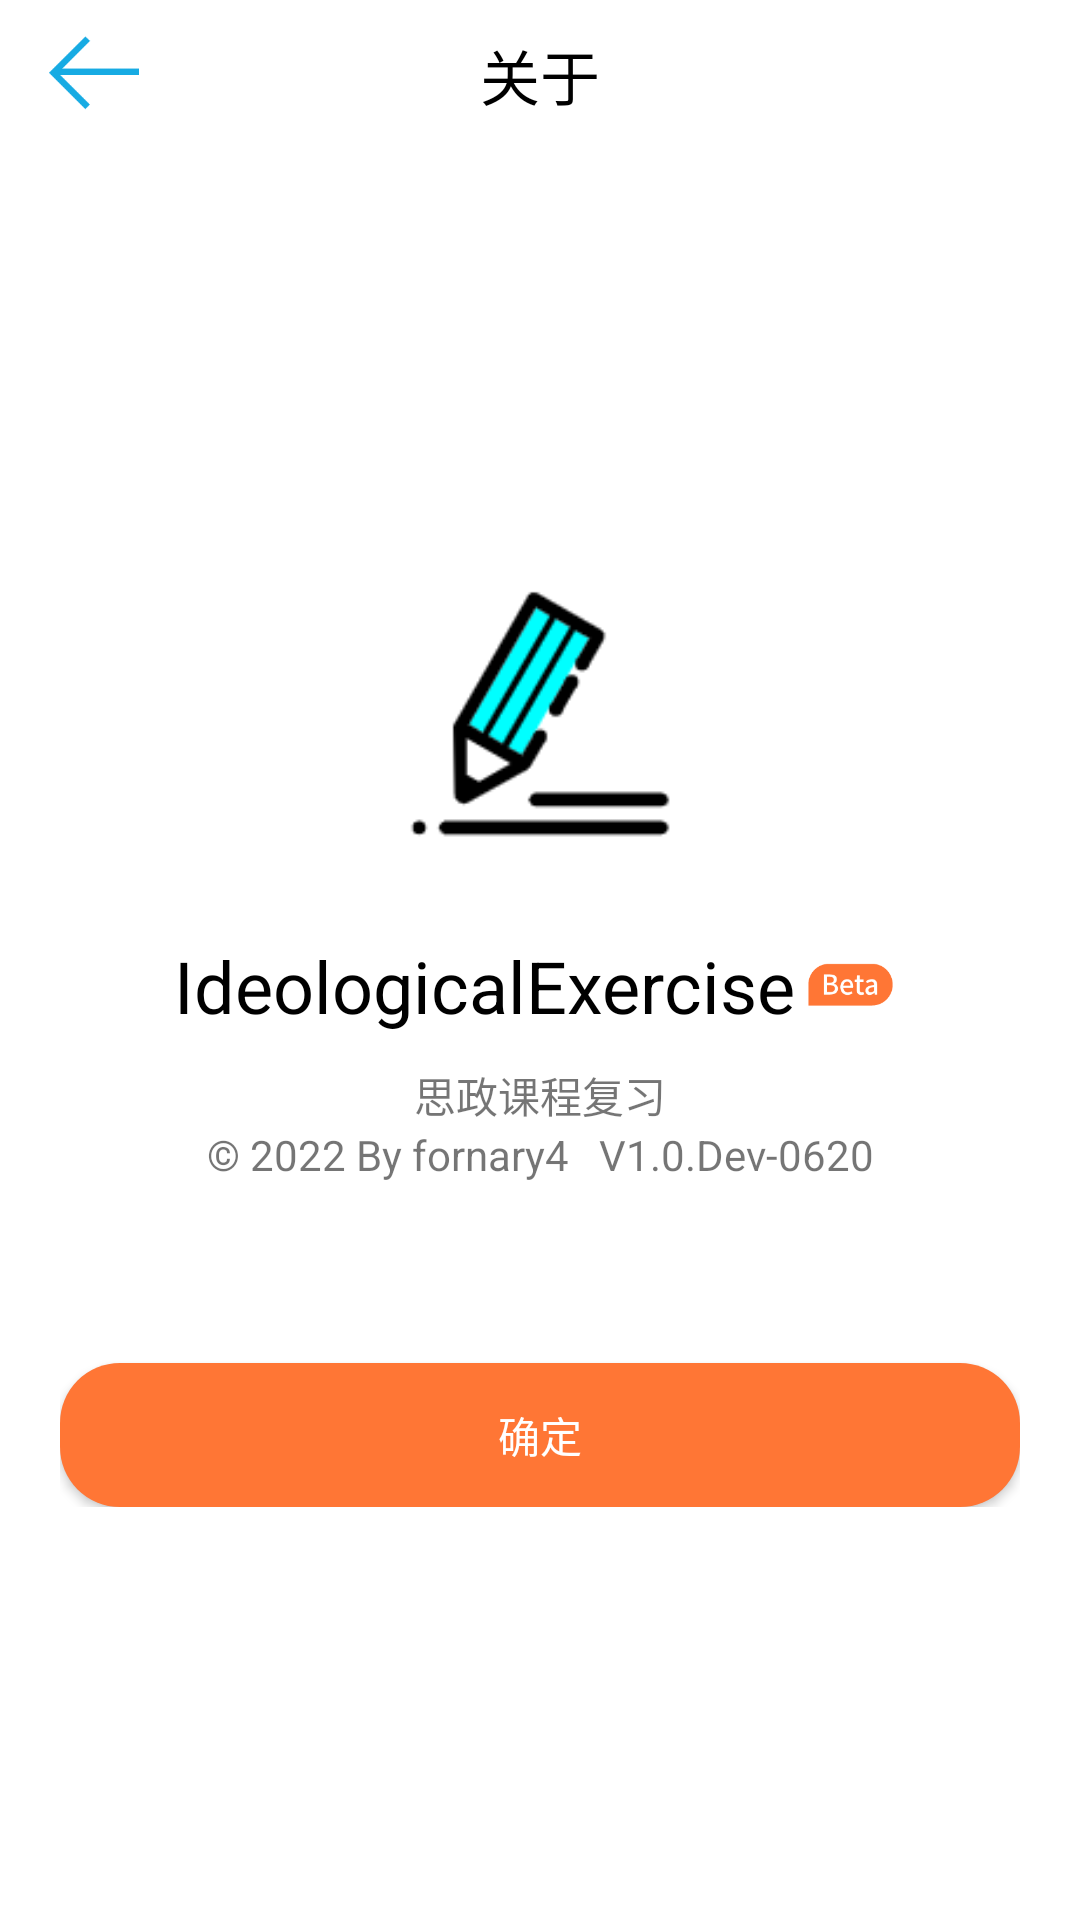

Locate icon controls on the screen. Image size 1080w x 1920h, boxes as bbox(x1, y1, x2, y2).
back: bbox(49, 36, 139, 109)
